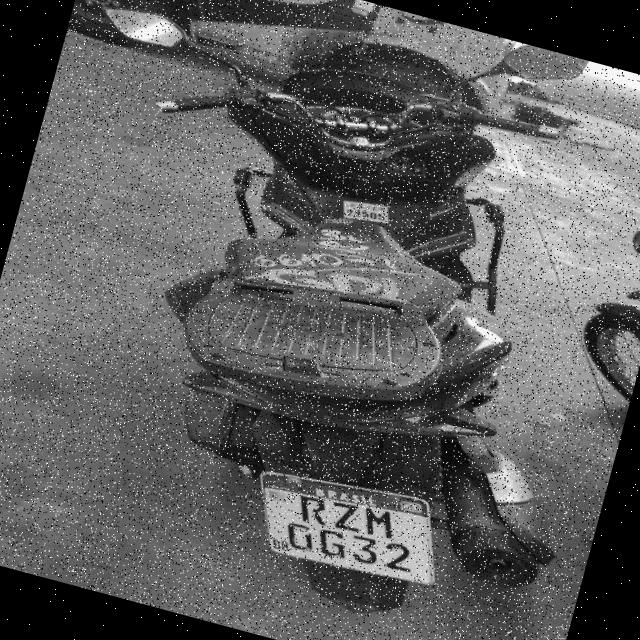Caractere: (356, 504, 398, 540), (326, 498, 366, 534), (292, 493, 333, 528), (346, 532, 382, 566), (283, 520, 320, 553), (381, 540, 418, 573), (314, 527, 351, 559)
